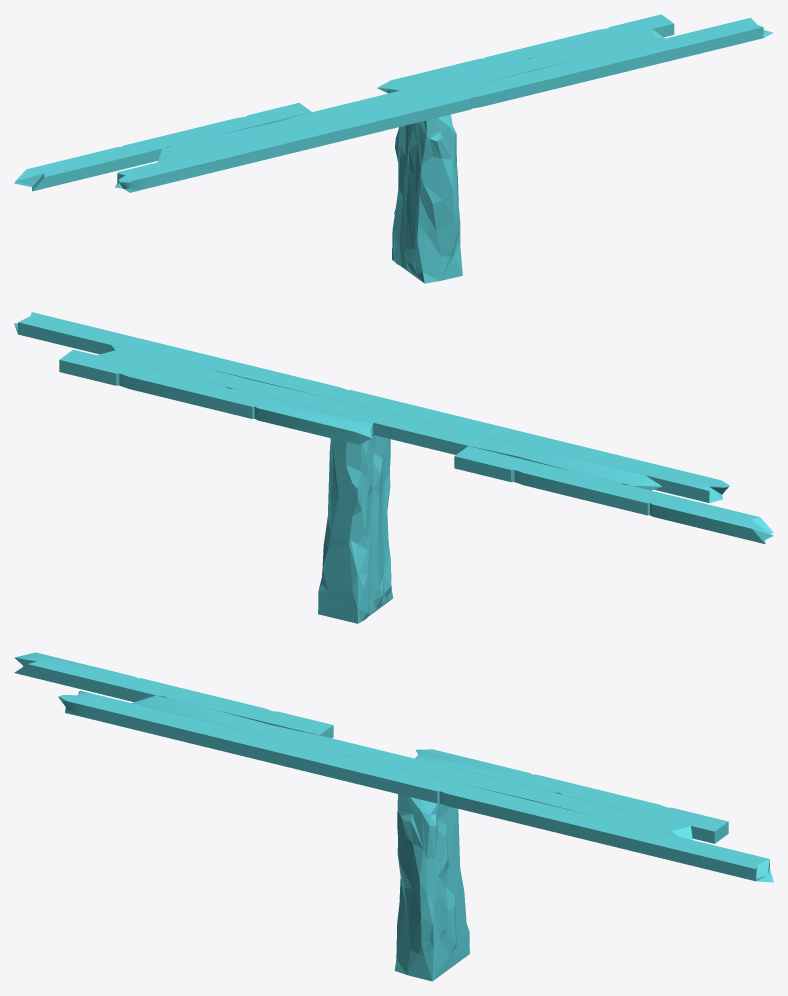
File: New_platform5.fbx
3 views of the same model, one above another, from view 1: azimuth 30°, elevation 25°; view 2: azimuth 150°, elevation 25°; view 3: azimuth 330°, elevation 25° (orthographic). The views are drawn at different scales.
Visible parts, largest first — view 1: New_platform5; view 2: New_platform5; view 3: New_platform5.
Boxes of the visible parts, x1=… form: New_platform5: x1=14, y1=14, x2=773, y2=283; New_platform5: x1=14, y1=312, x2=773, y2=623; New_platform5: x1=14, y1=652, x2=773, y2=981.
Bounding box in the file's own units: 5905 × 1378 × 541.
